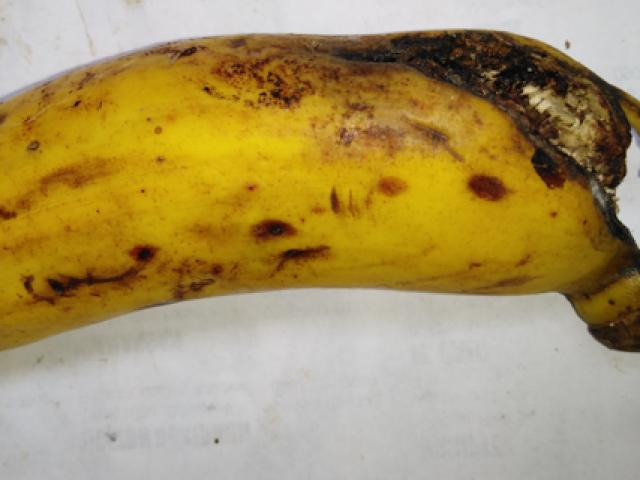ripe: (0, 25, 368, 357)
rotten: (347, 3, 639, 257)
